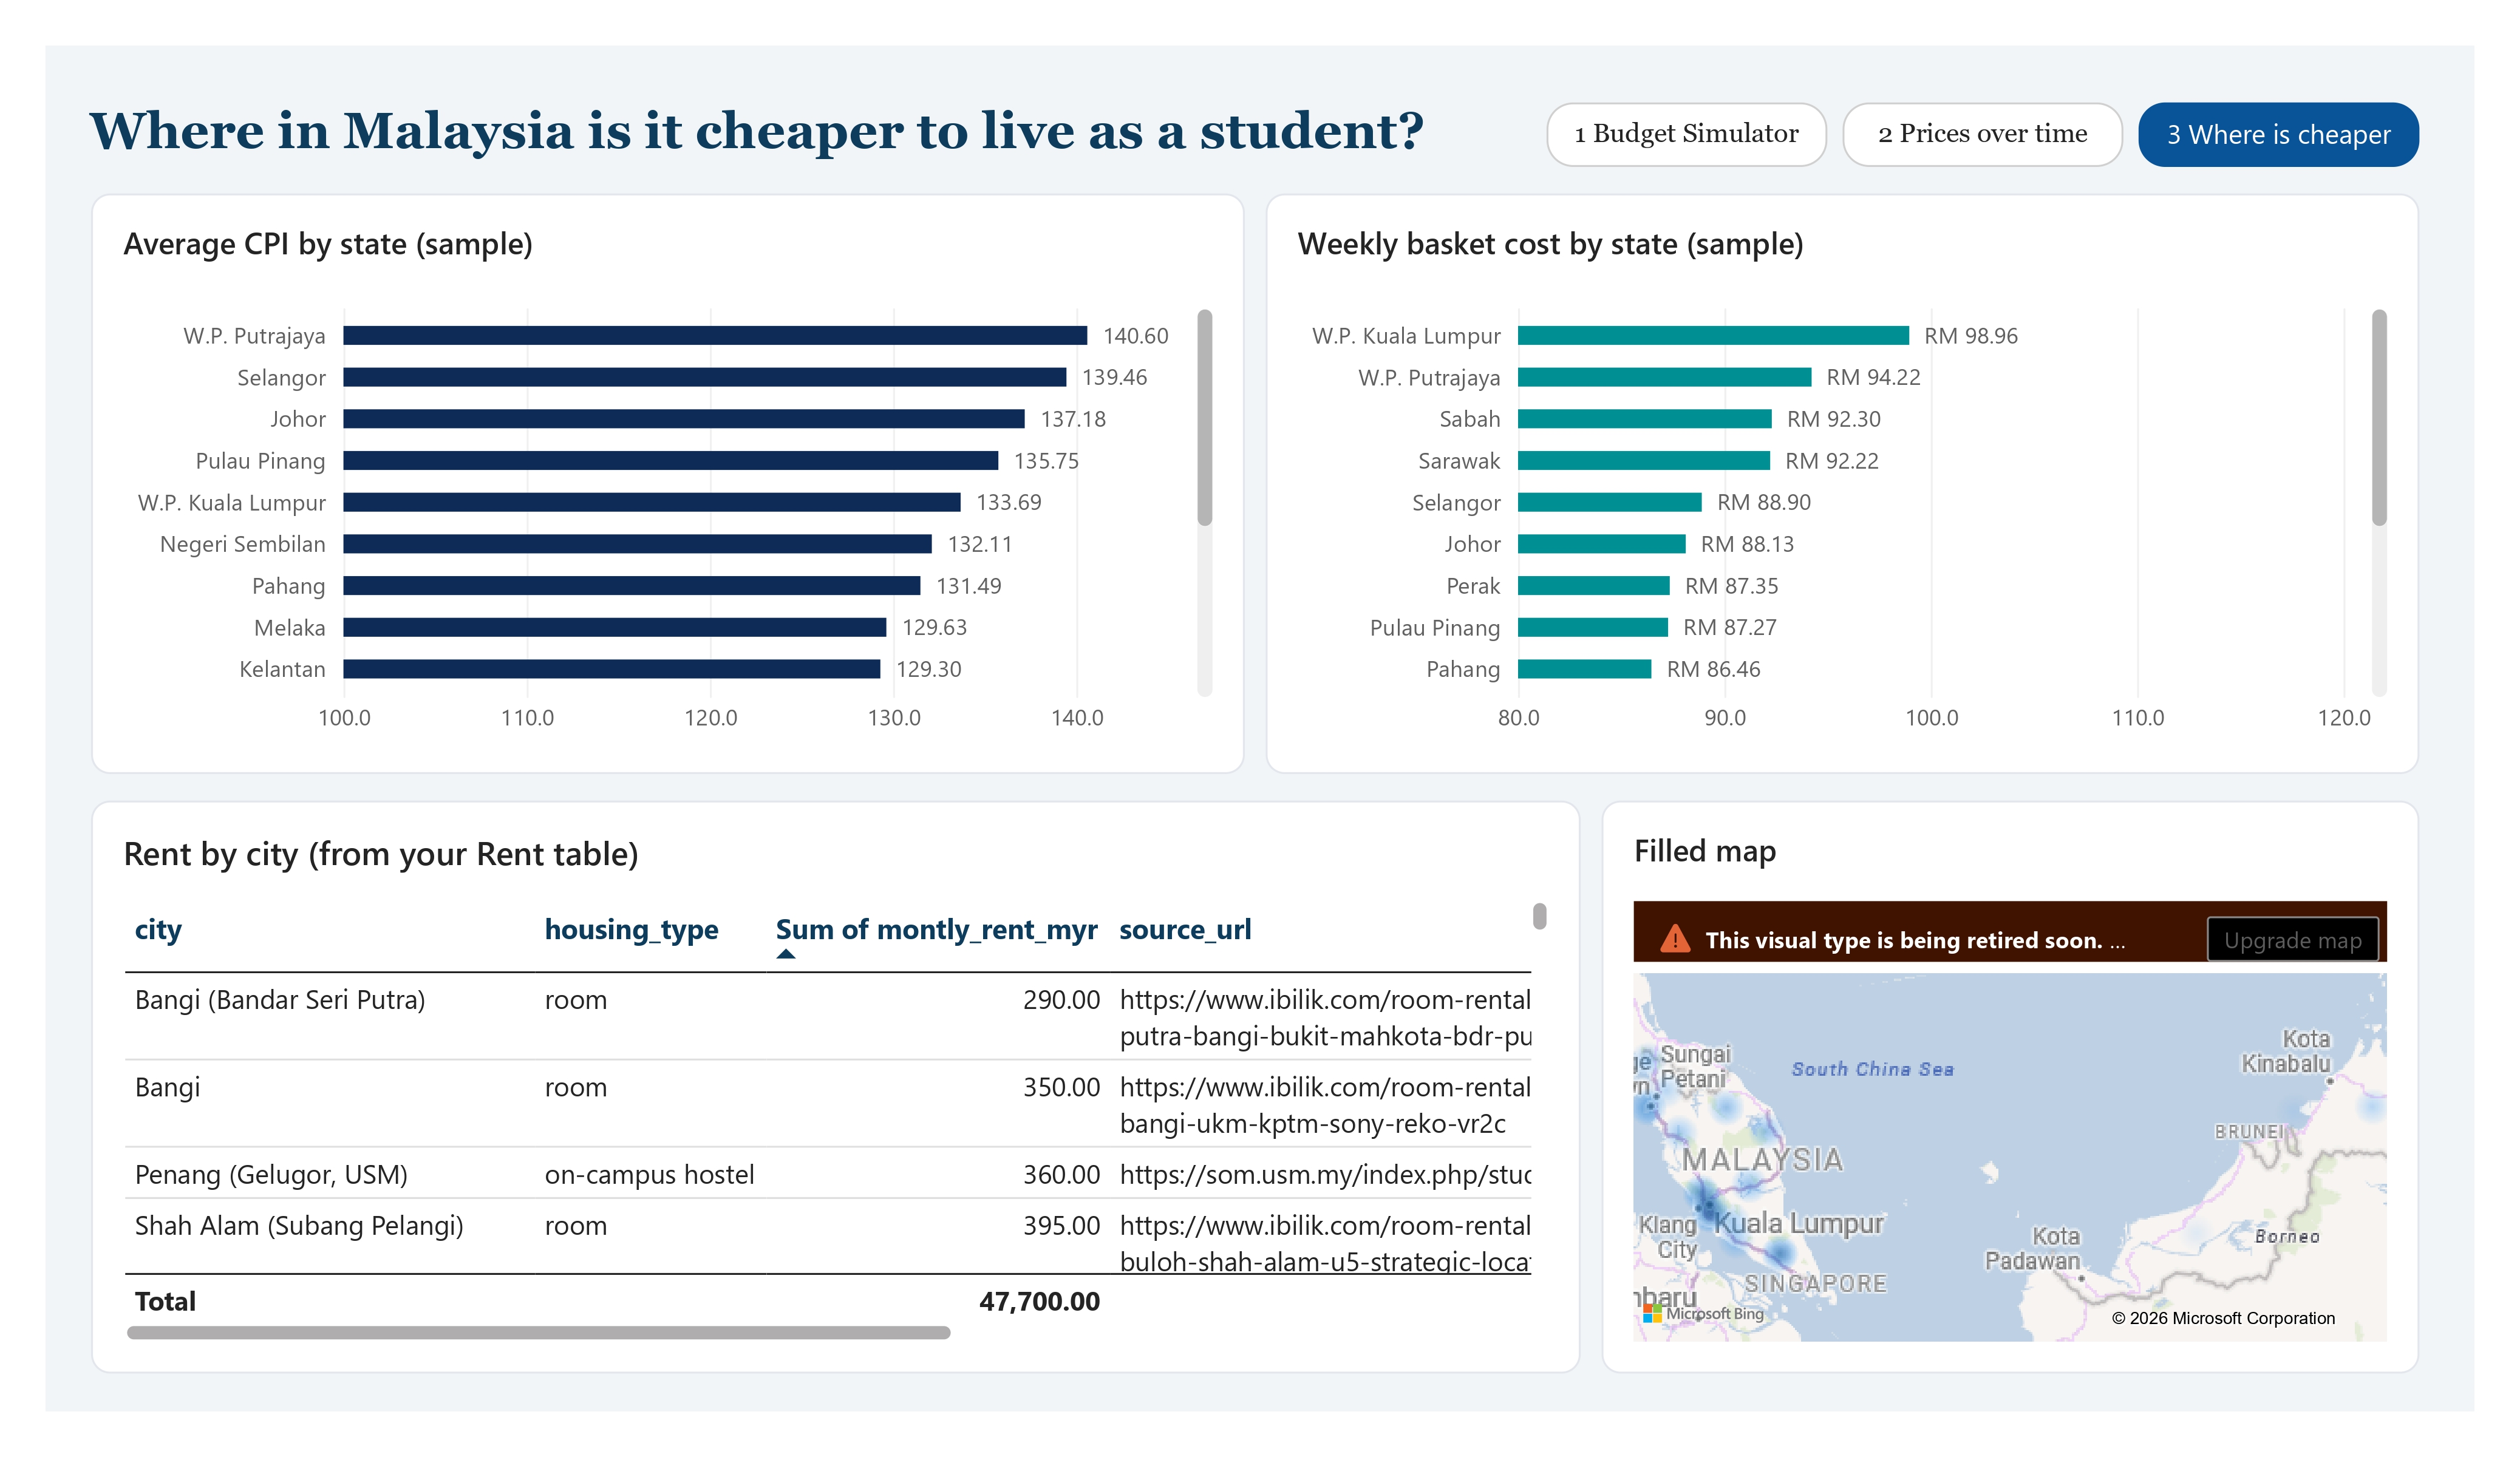

This screenshot's page, from the dashboard's own definition file:
{"tool":"powerbi","page":{"name":"3 Where is cheaper","canvas":[1280,720],"ordinal":2},"visuals":[{"type":"textbox","box":[23.3,30,770,34.4],"z":0},{"type":"pageNavigator","box":[791,30,460,34],"z":1000},{"type":"clusteredBarChart","title":"Average CPI by state (sample)","fields":{"Category":["StateDim.state"],"Y":["Measures\\.Avg CPI"]},"box":[24,78,608,306],"z":4000},{"type":"clusteredBarChart","title":"Weekly basket cost by state (sample)","fields":{"Category":["StateDim.state"],"Y":["Measures\\.Weekly Basket Cost"]},"box":[643.3,77.8,608,306],"z":5000},{"type":"tableEx","title":"Rent by city (from your Rent table)","fields":{"Values":["Rent.city","Rent.housing_type","Sum(Rent.montly_rent_myr)","Rent.source_url"]},"box":[23.8,397.5,785,302.5],"z":6000},{"type":"map","title":"Filled map","fields":{"Category":["StateDim.state"],"Size":["Measures\\.Avg CPI"]},"box":[820,398,431,302],"z":6001}]}

Visuals, with their boxes on the page's 1280x720 design canvas (x1, y1, x2, y2). These are canvas units, not pixel positions in the 2520x1457 screenshot, which may show the page scaled, cropped or inside an application window:
textbox: 23,30,793,64
pageNavigator: 791,30,1251,64
"Average CPI by state (sample)" clusteredBarChart: 24,78,632,384
"Weekly basket cost by state (sample)" clusteredBarChart: 643,78,1251,384
"Rent by city (from your Rent table)" tableEx: 24,398,809,700
"Filled map" map: 820,398,1251,700
